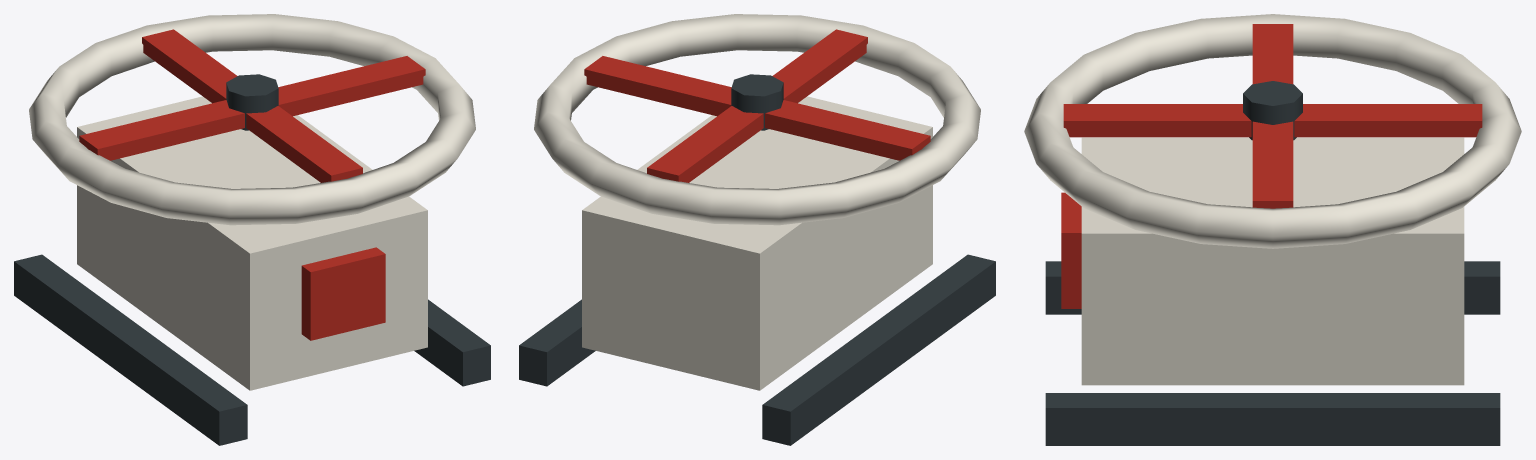
3 views of the same model, side by side, from view 1: azimuth 30°, elevation 25°; view 2: azimuth 150°, elevation 25°; view 3: azimuth 270°, elevation 25° (orthographic). The views are drawn at different scales.
Visible parts, largest first — view 1: kamikaze-drone-fleet-armor, kamikaze-drone-fleet-machine, rotor-center-fleet-red, kamikaze-drone-fleet-red, rotor-center-fleet-machine; view 2: kamikaze-drone-fleet-armor, kamikaze-drone-fleet-machine, rotor-center-fleet-red, rotor-center-fleet-machine; view 3: kamikaze-drone-fleet-armor, kamikaze-drone-fleet-machine, rotor-center-fleet-red, kamikaze-drone-fleet-red, rotor-center-fleet-machine.
Part boxes in pixels (x1,y1,x2,y2): kamikaze-drone-fleet-armor: [29, 14, 475, 390]; kamikaze-drone-fleet-machine: [14, 254, 490, 445]; rotor-center-fleet-red: [79, 29, 425, 182]; kamikaze-drone-fleet-red: [301, 247, 385, 340]; rotor-center-fleet-machine: [226, 74, 278, 130]; kamikaze-drone-fleet-armor: [534, 14, 980, 390]; kamikaze-drone-fleet-machine: [519, 254, 995, 445]; rotor-center-fleet-red: [584, 29, 930, 182]; rotor-center-fleet-machine: [731, 74, 783, 130]; kamikaze-drone-fleet-armor: [1024, 14, 1521, 385]; kamikaze-drone-fleet-machine: [1045, 261, 1500, 445]; rotor-center-fleet-red: [1063, 24, 1482, 208]; kamikaze-drone-fleet-red: [1061, 192, 1081, 308]; rotor-center-fleet-machine: [1243, 81, 1302, 140].
Size of the model in its own units: 2.21 by 1.37 by 2.21.
